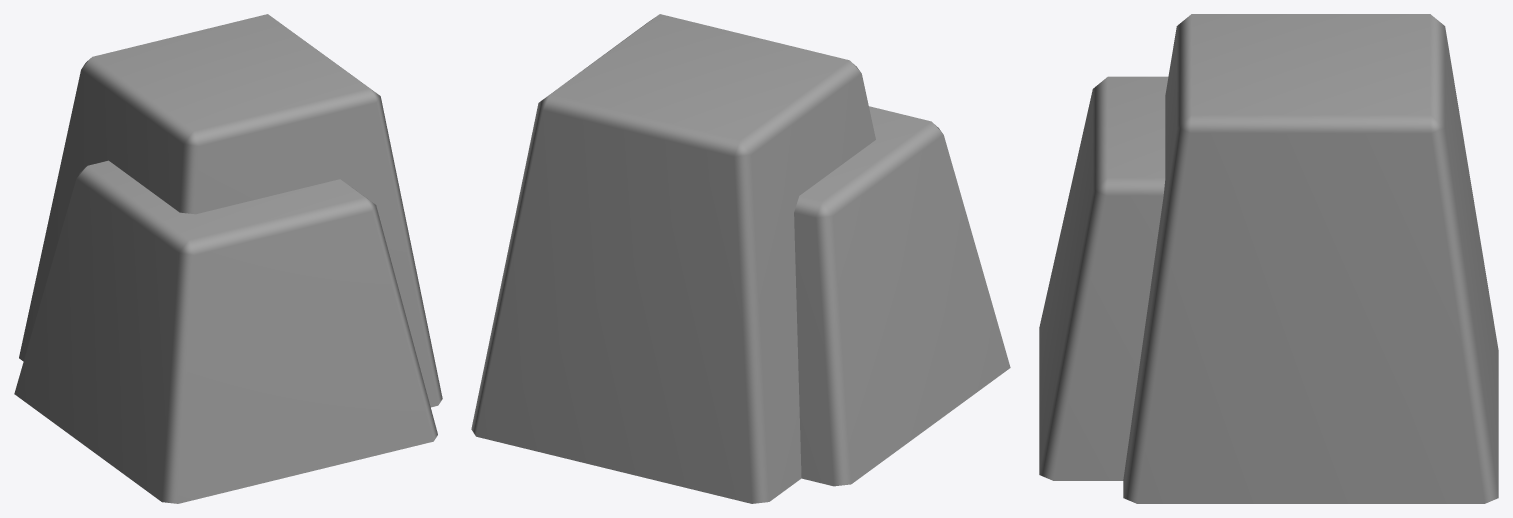
The model's file is Farm_5_Stone_2.glb.
3 views of the same model, side by side, from view 1: azimuth 30°, elevation 25°; view 2: azimuth 150°, elevation 25°; view 3: azimuth 270°, elevation 25° (orthographic). The views are drawn at different scales.
Visible parts, largest first — view 1: Farm_5_Stone_2; view 2: Farm_5_Stone_2; view 3: Farm_5_Stone_2.
Boxes of the visible parts, x1=… form: Farm_5_Stone_2: x1=14, y1=14, x2=442, y2=503; Farm_5_Stone_2: x1=471, y1=14, x2=1010, y2=503; Farm_5_Stone_2: x1=1039, y1=14, x2=1498, y2=503.
Size of the model in its own units: 0.7753 by 0.7163 by 0.828.
1 material, 1 textured.
